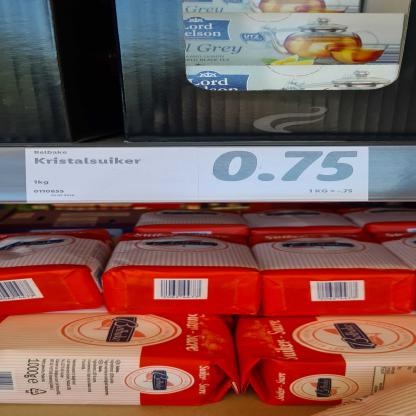prtg: (26, 148, 370, 204)
